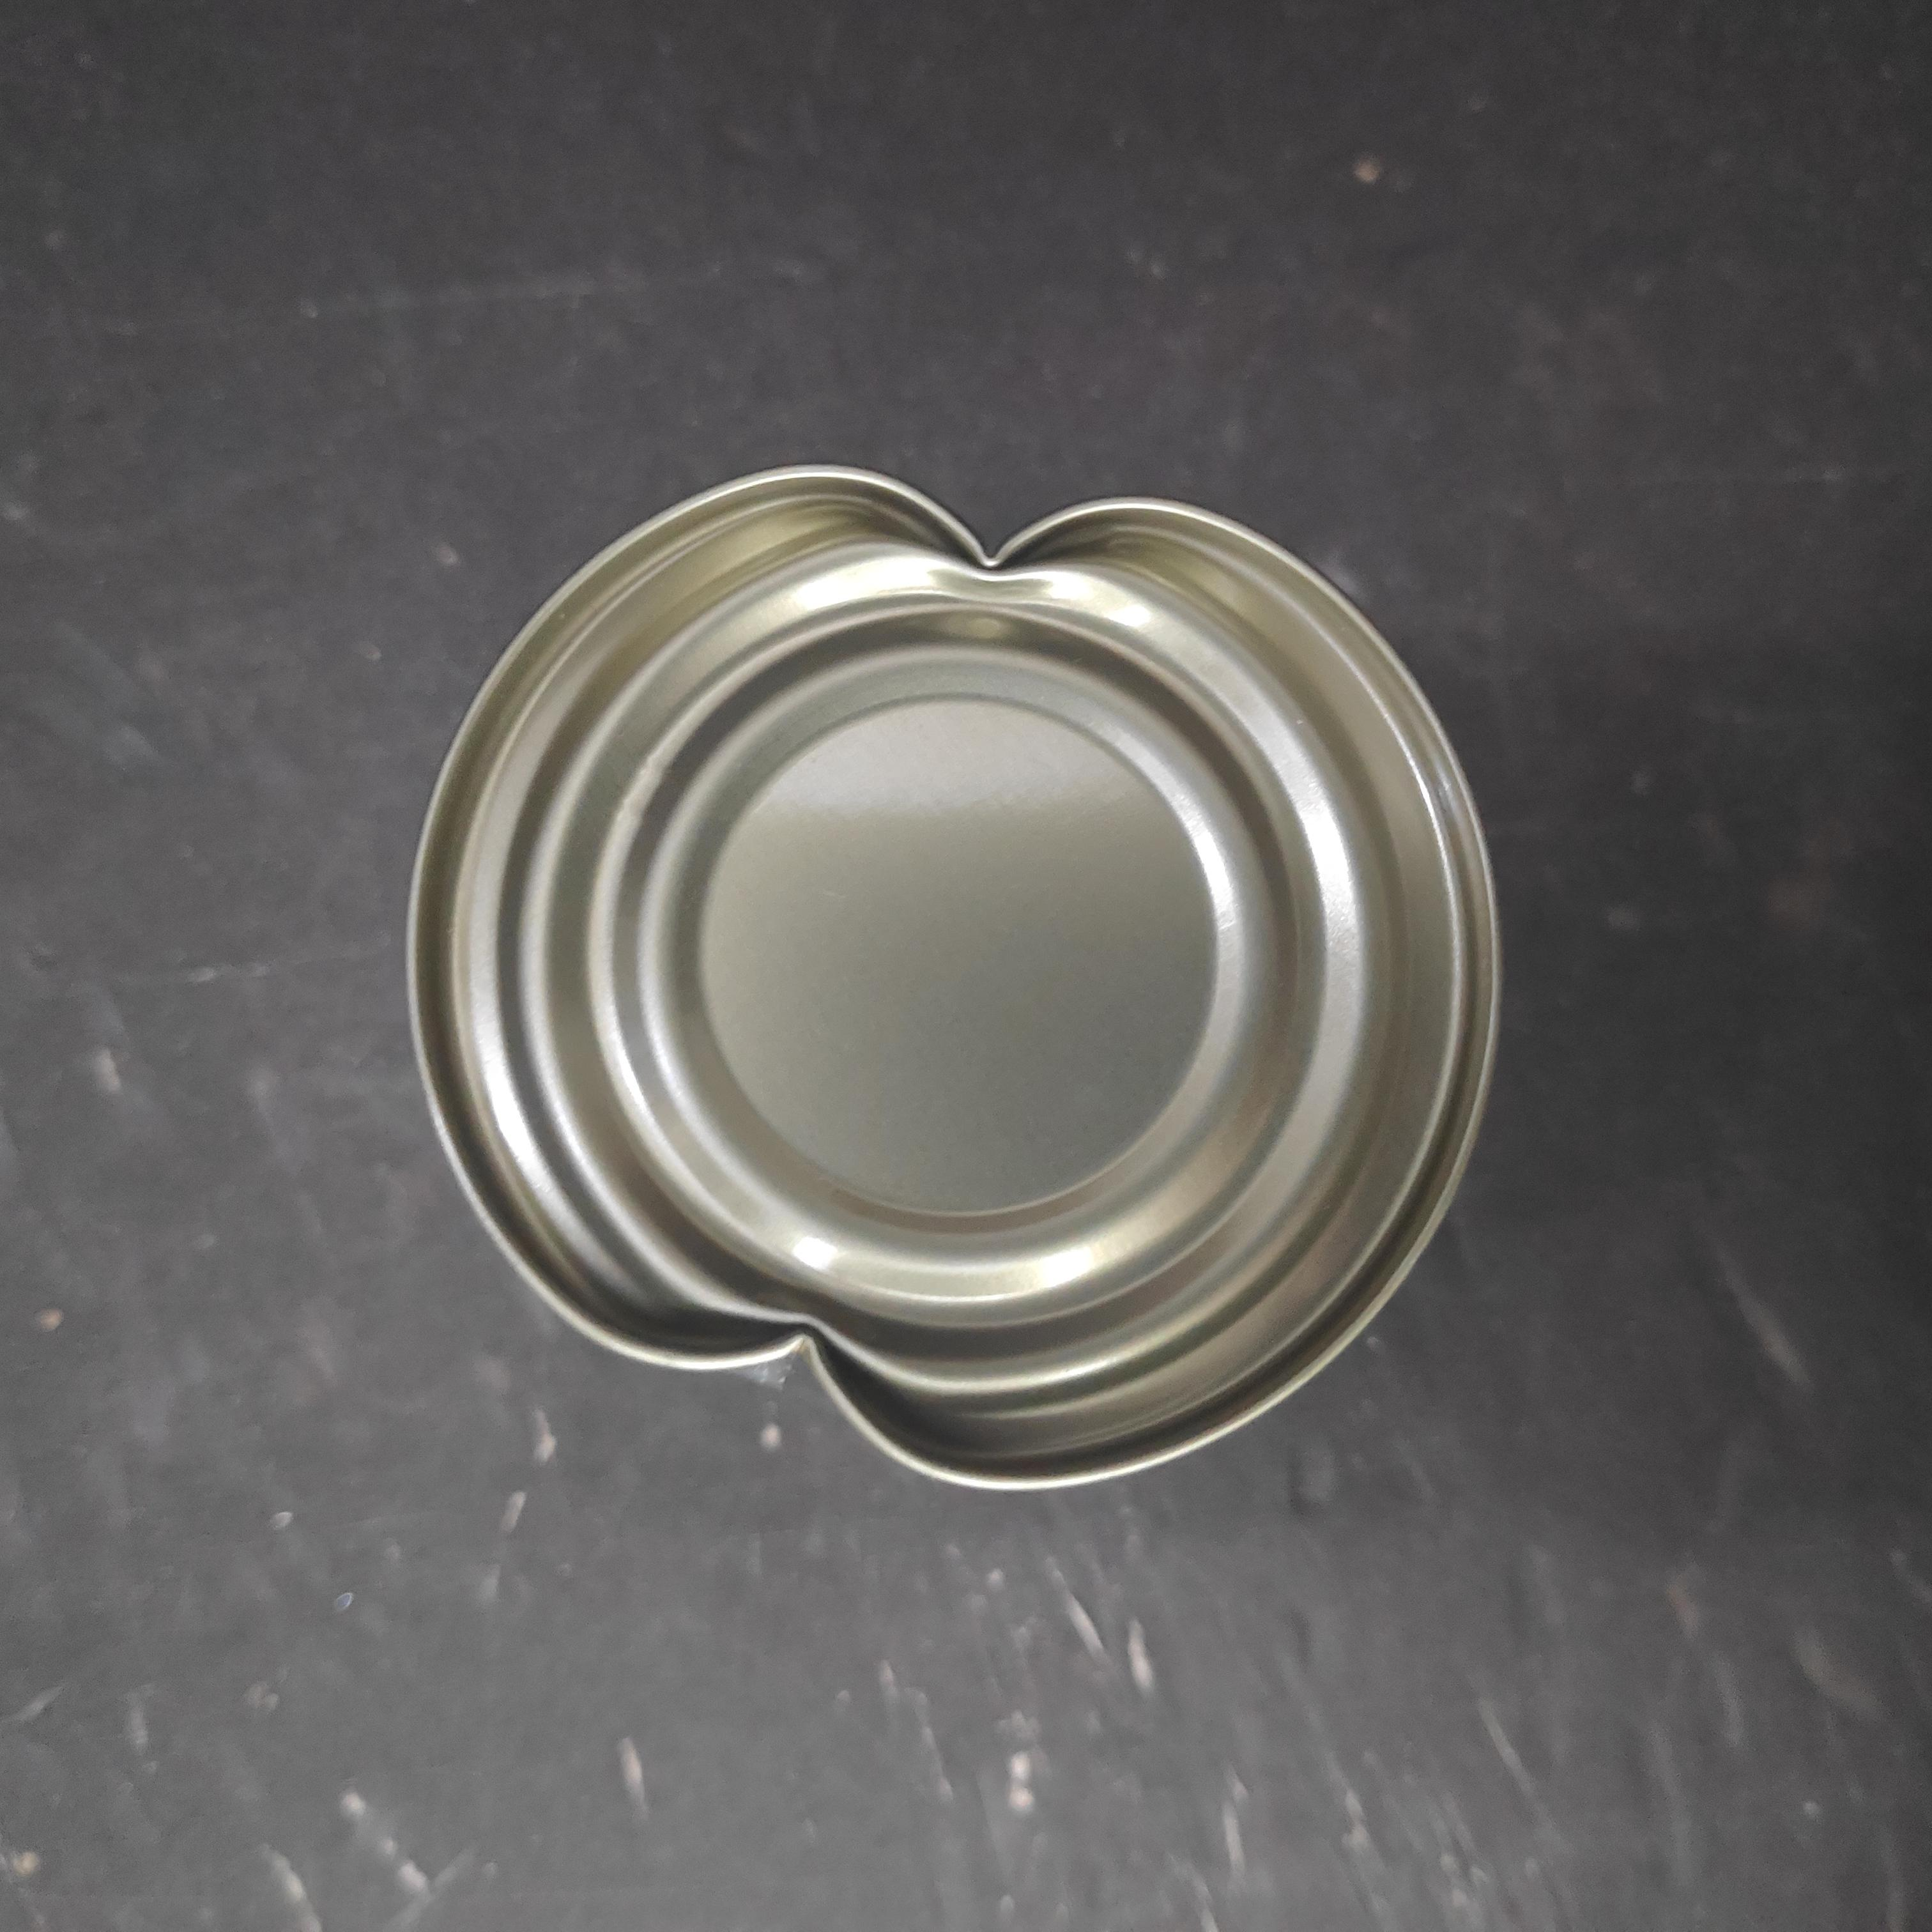Critical Defect: (419, 435, 1539, 1484)
